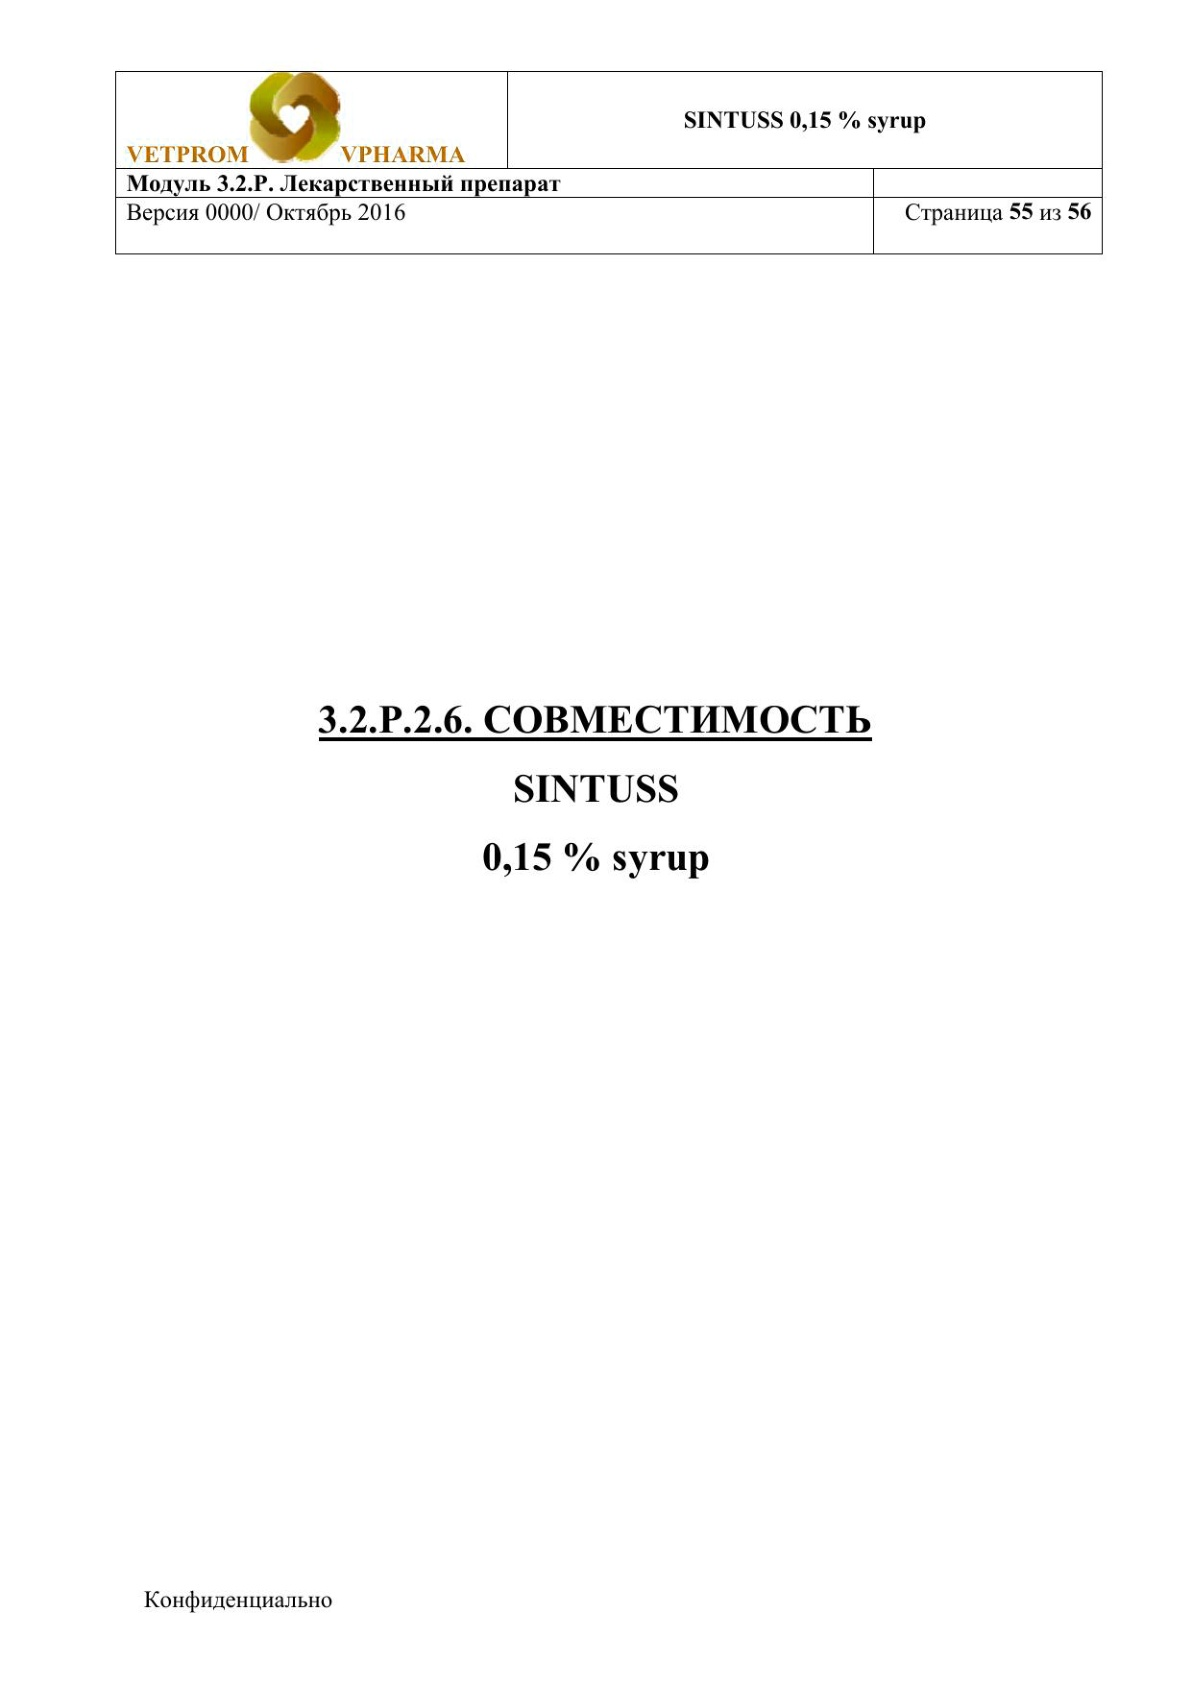merged_cells: (114, 70, 1103, 255)
